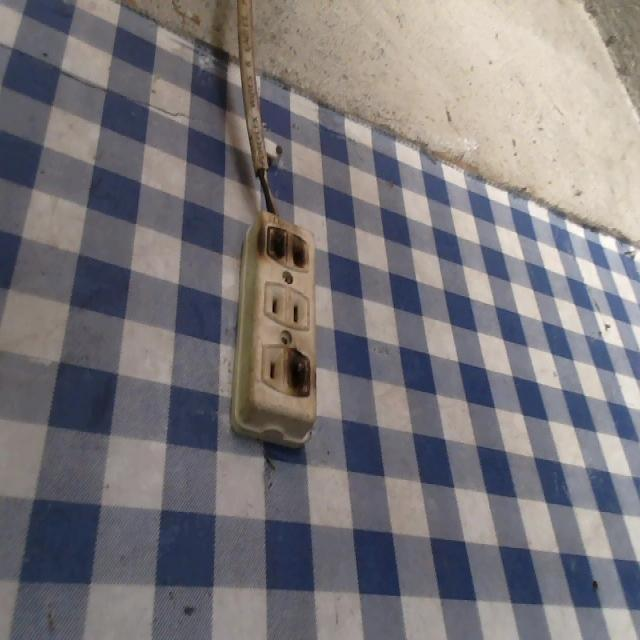-: (253, 217, 312, 276), (280, 341, 318, 399)
